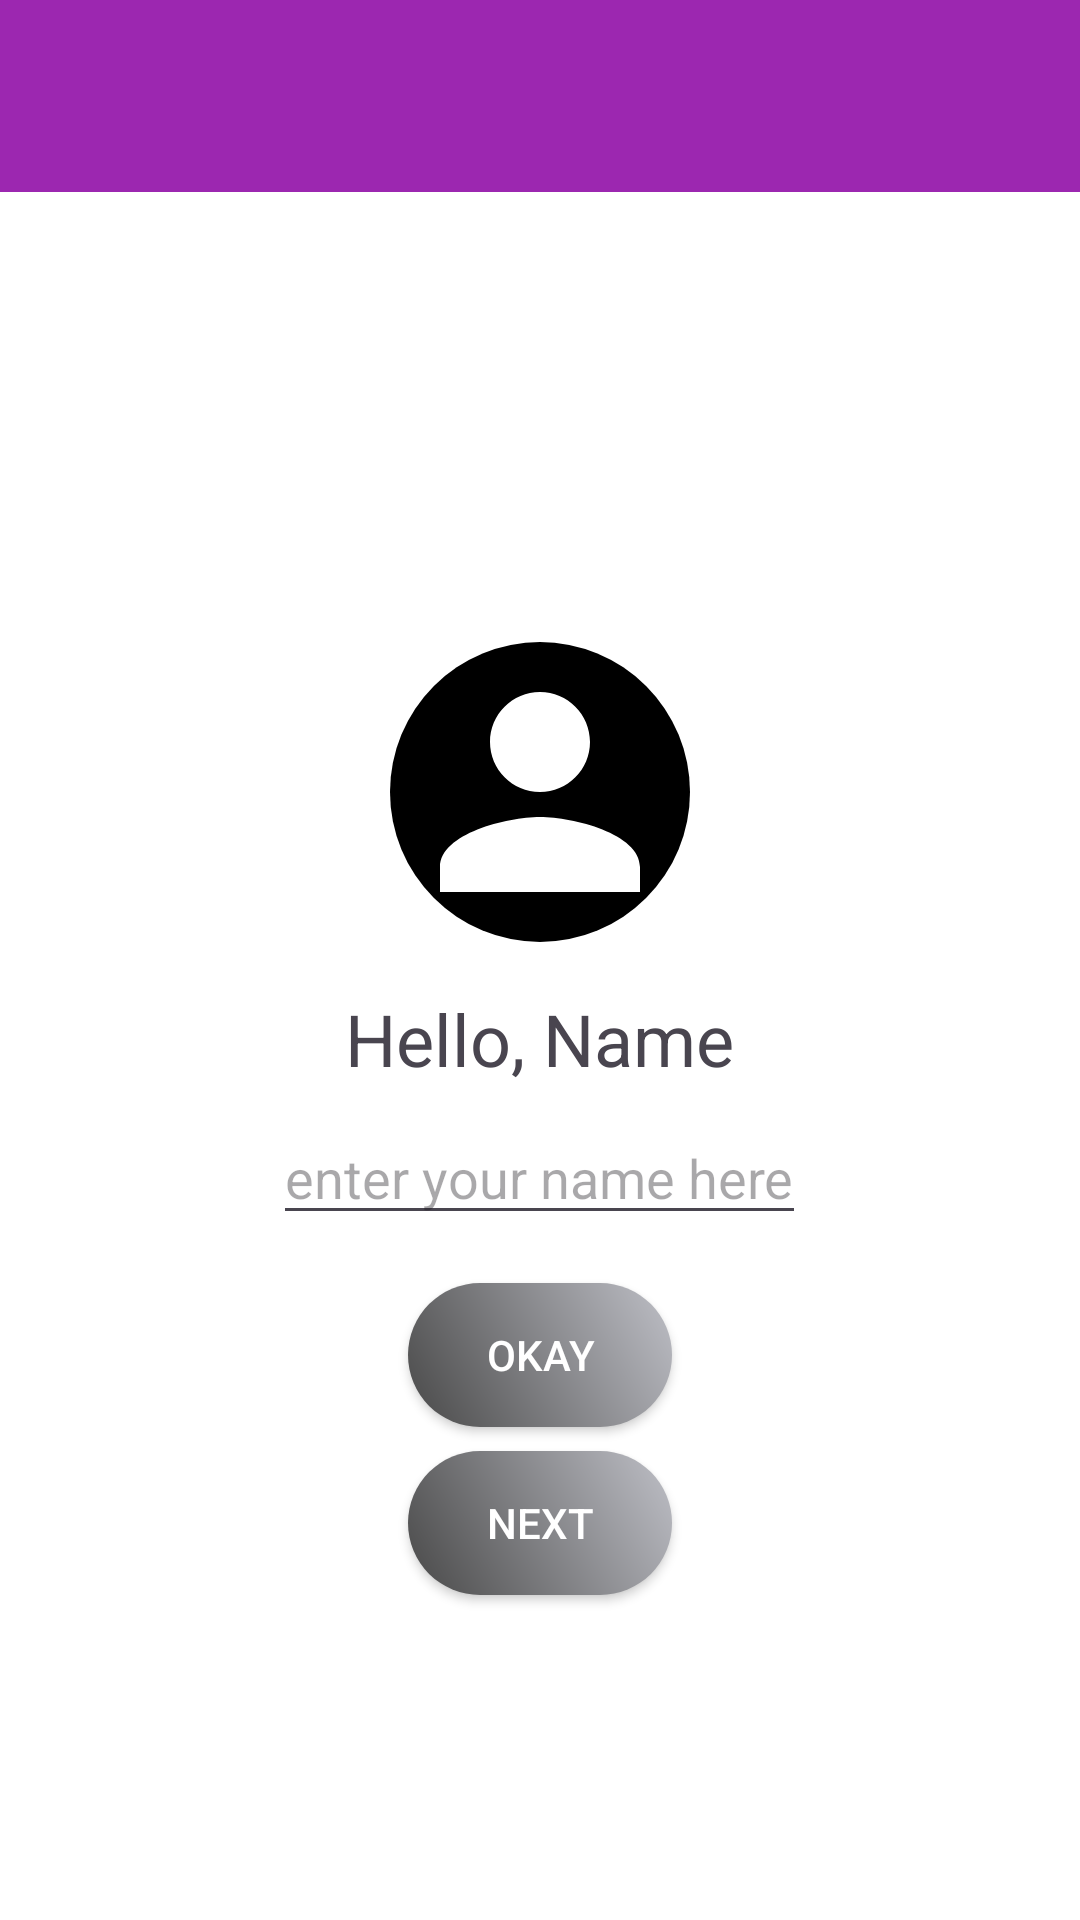

Where to tap for icons on this 1080 x 1920 app screen, as point (x, y):
person: point (540, 792)
